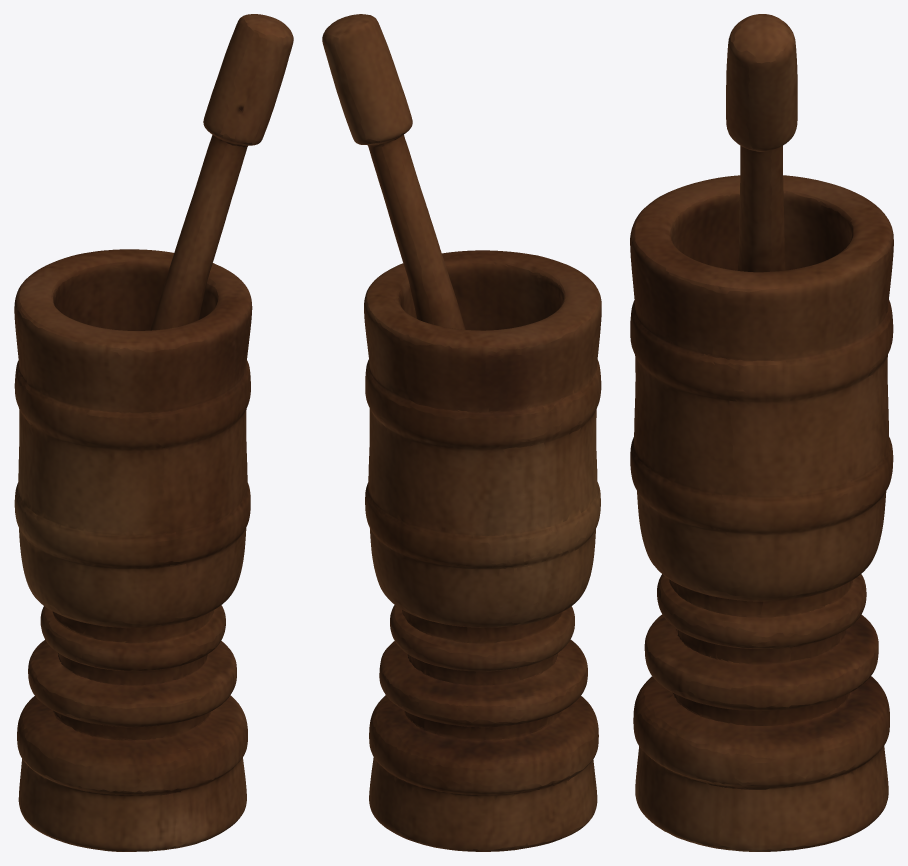
Rendered from item_824e1095.glb.
3 renders of one model, left to right at view 1: azimuth 30°, elevation 25°; view 2: azimuth 150°, elevation 25°; view 3: azimuth 270°, elevation 25°, orthographic. The views are drawn at different scales.
Parts seen in each view (by area): view 1: world; view 2: world; view 3: world.
Part boxes in pixels (x1,y1,x2,y2): world: [14, 14, 293, 851]; world: [322, 14, 601, 851]; world: [630, 14, 893, 851].
Size of the model in its own units: 0.1003 by 0.28 by 0.0788.
Materials: 1 (1 with a texture image).
